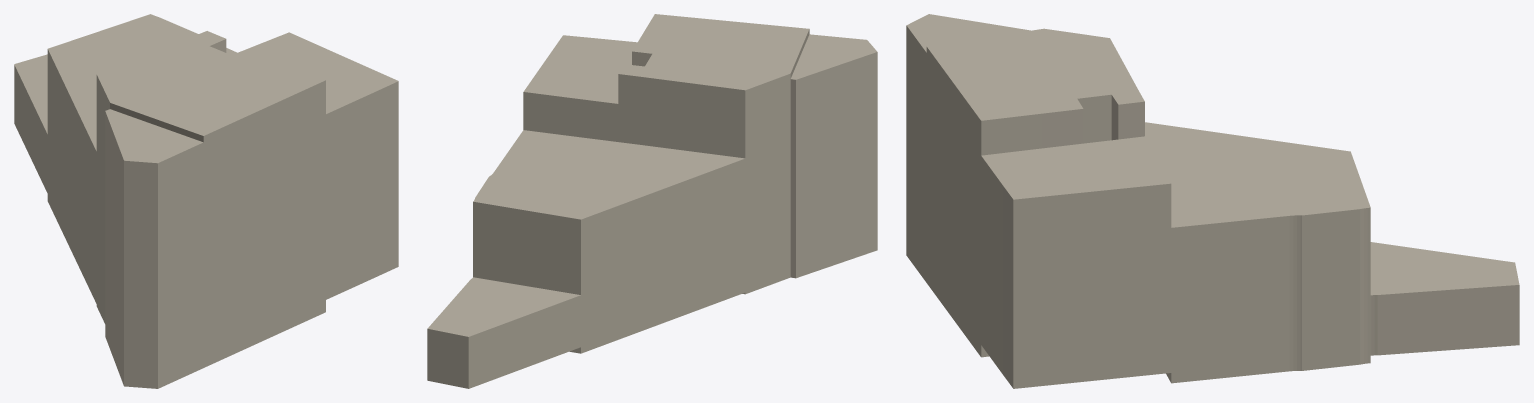
The model's file is bormla_60_26_collision.glb.
The picture shows the model from 3 angles, left to right: view 1: azimuth 30°, elevation 25°; view 2: azimuth 150°, elevation 25°; view 3: azimuth 270°, elevation 25°; orthographic projection. The views are drawn at different scales.
Visible parts, largest first — view 1: geometry_0; view 2: geometry_0; view 3: geometry_0.
Boxes of the visible parts, x1,y1,x2,y2 form: geometry_0: (14, 14, 398, 388); geometry_0: (427, 14, 877, 388); geometry_0: (906, 14, 1519, 388).
Size of the model in its own units: 25.02 by 17.55 by 41.21.
